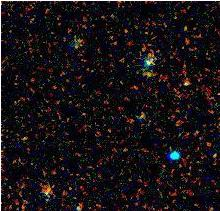star: (174, 69, 204, 99)
